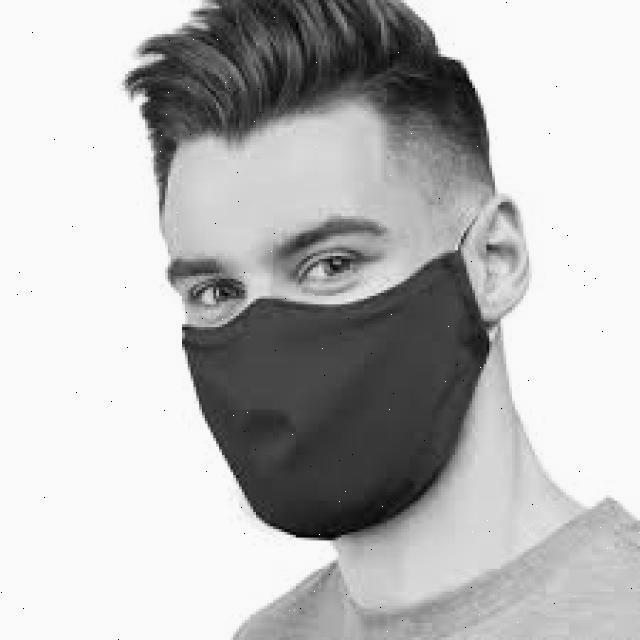fake: (184, 249, 494, 538)
real: (163, 102, 442, 540)
